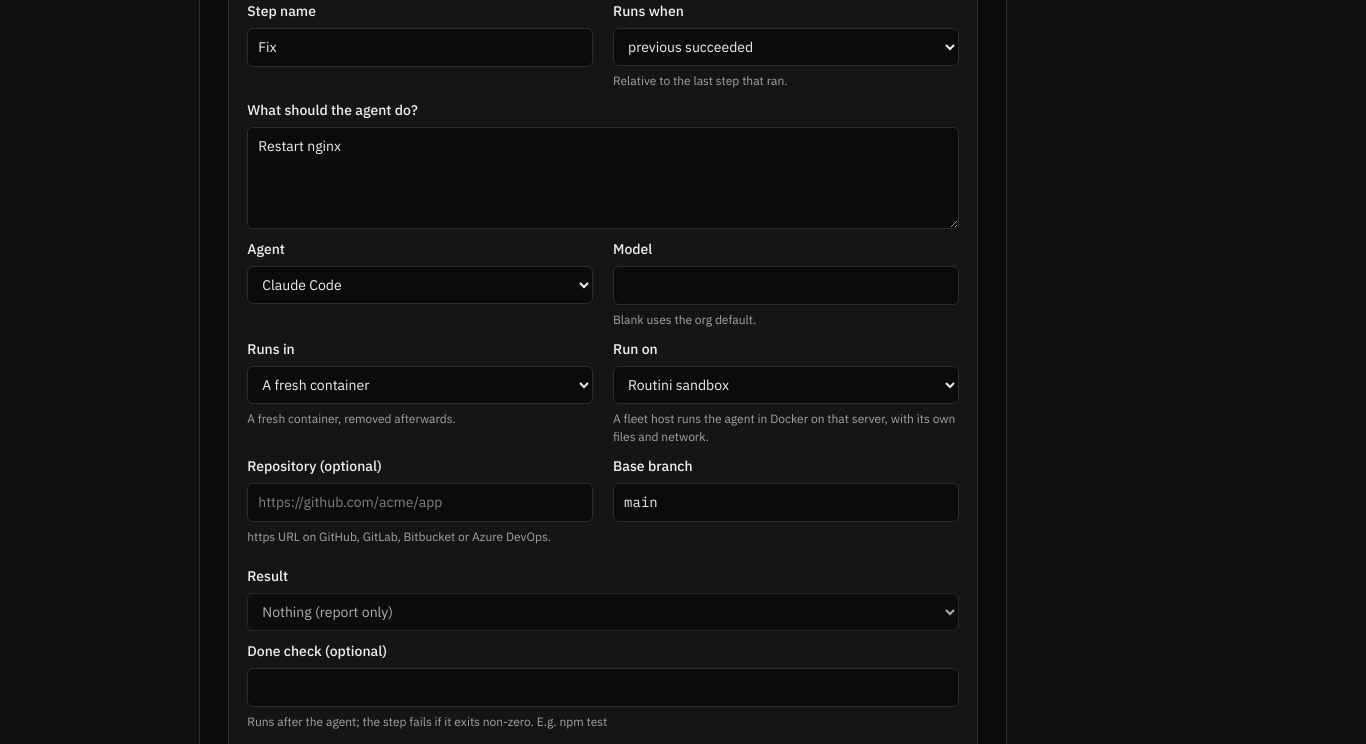
job editor: running an agent on a fleet host › keeps the environment and the fleet host mutually exclusive
(page scrolled)
Select "web-01" in the dropdown labelled "Run on": (786, 385) x1=613 y1=366 x2=959 y2=404
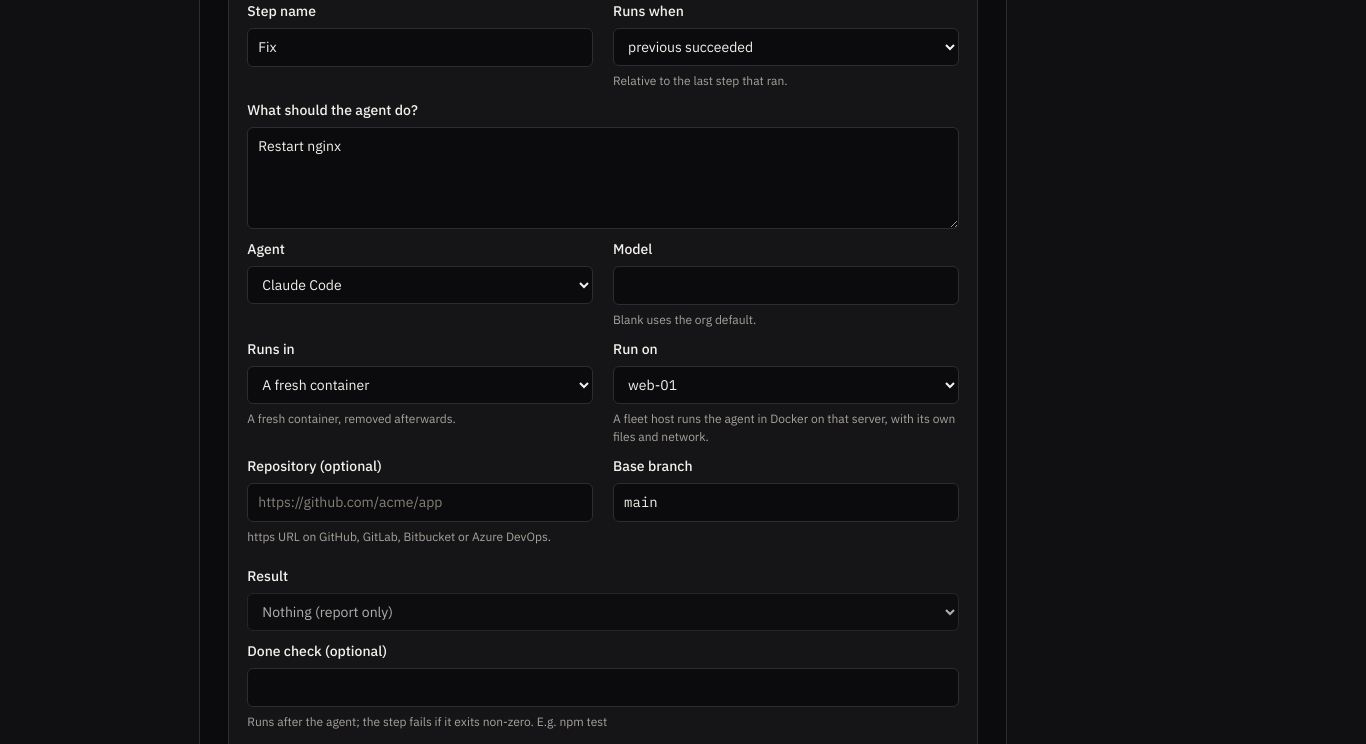
Select "Environment: app" in the dropdown labelled "Runs in": (420, 385) x1=247 y1=366 x2=593 y2=404
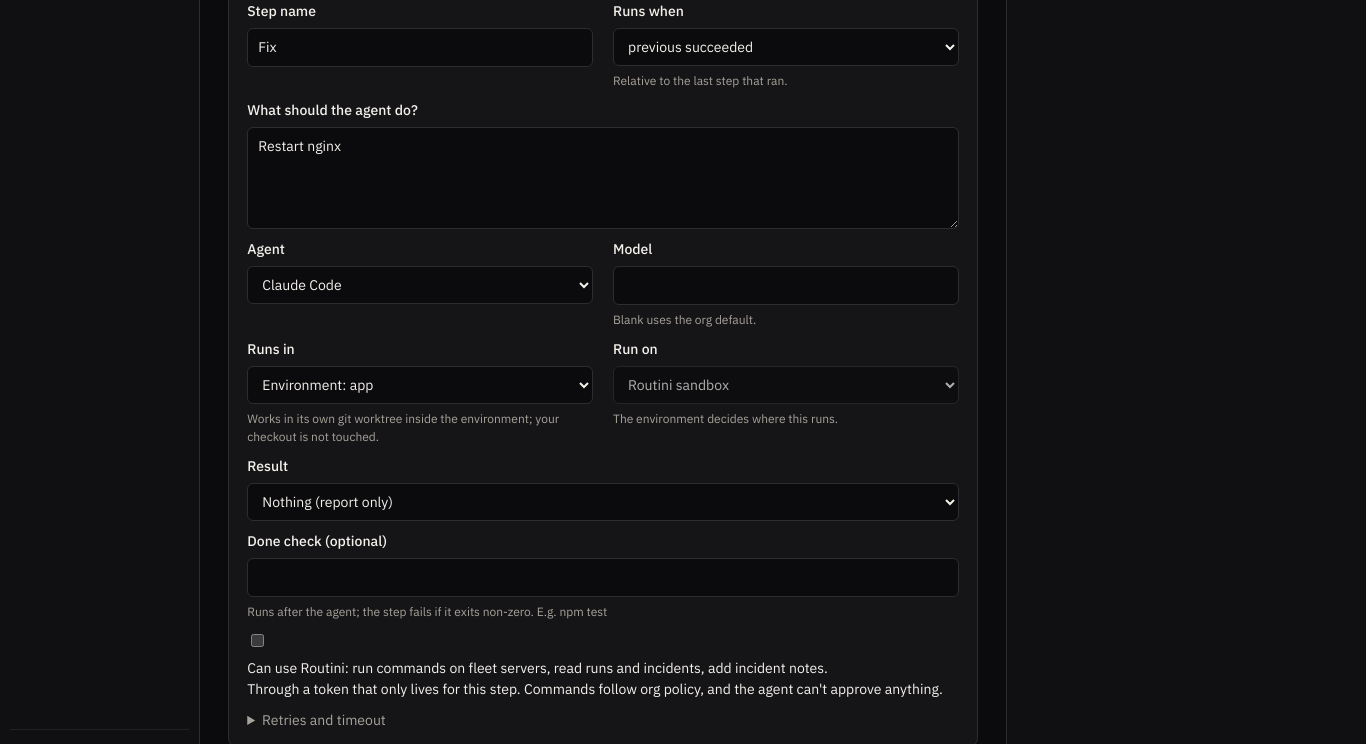
Expected: the dropdown labelled "Run on" is disabled, x1=613 y1=366 x2=959 y2=404
Back to a fresh container: the host can be chosen again.
Select "A fresh container" in the dropdown labelled "Runs in": (420, 385) x1=247 y1=366 x2=593 y2=404
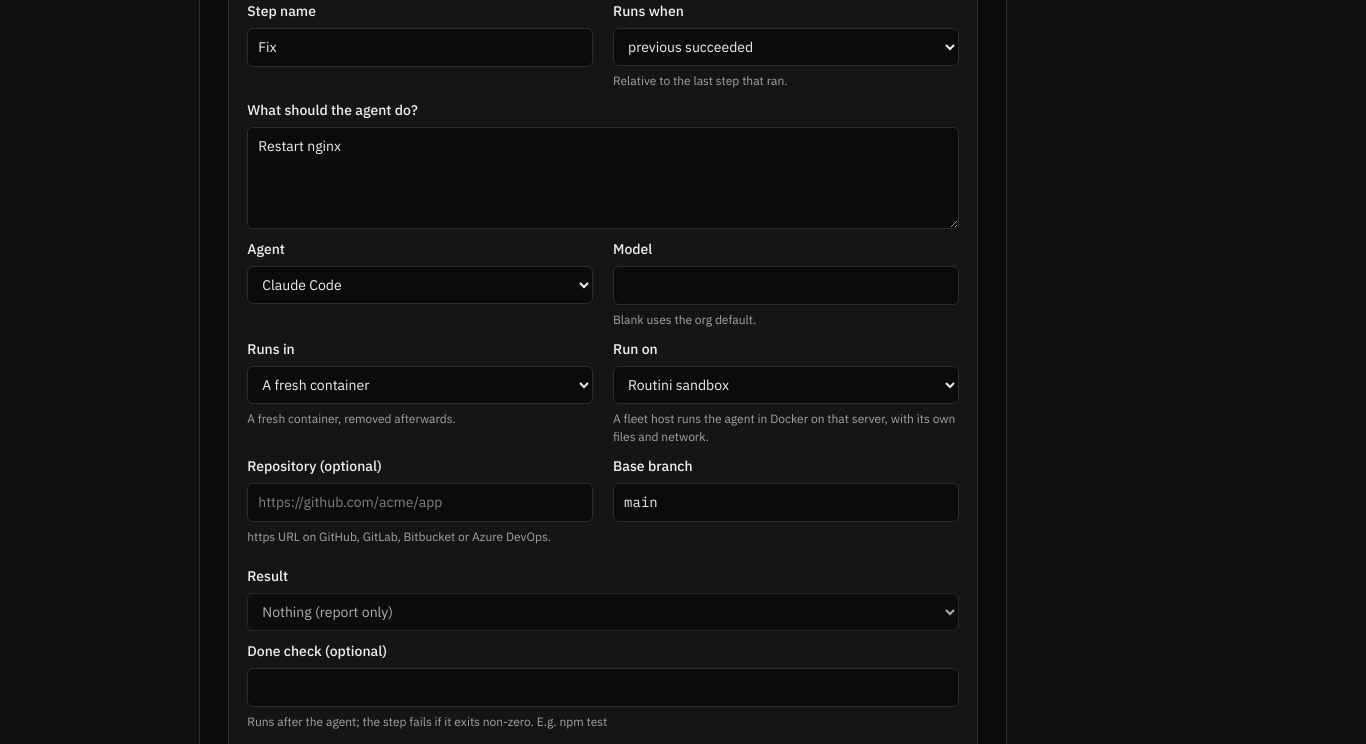
Expected: the dropdown labelled "Run on" is enabled, x1=613 y1=366 x2=959 y2=404
